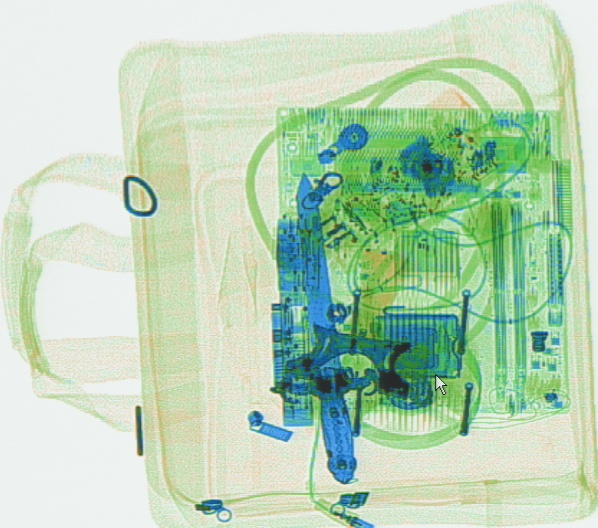knife: (293, 175, 355, 482)
slingshot: (275, 319, 414, 406)
